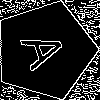A: (20, 25, 77, 72)
